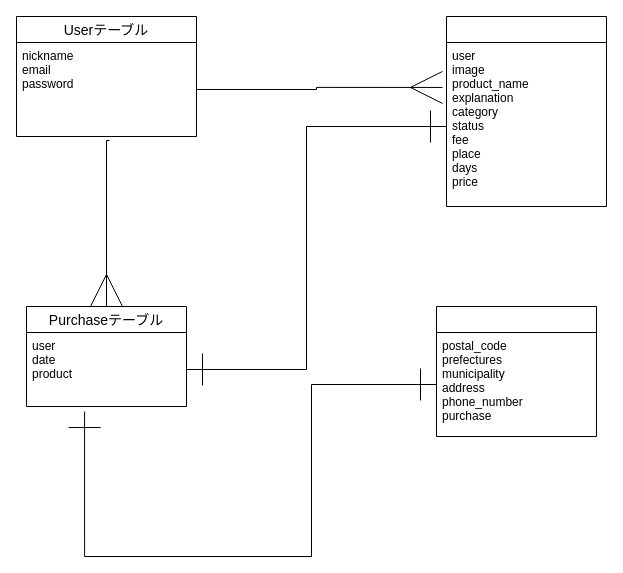
This 623x573 diagram has some shape labels left out. The box of each missing label's shape, as (x1, y1, x2, y2) in pixels:
Addressテーブル: (436, 306, 596, 436)
Productsテーブル: (446, 16, 606, 206)
